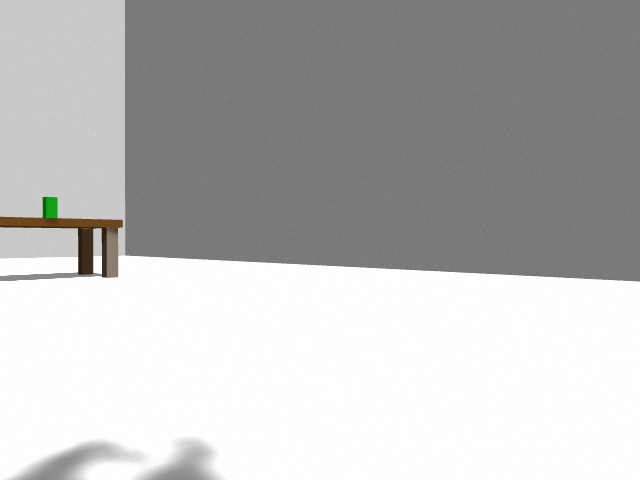green_cube: (43, 197, 58, 218)
